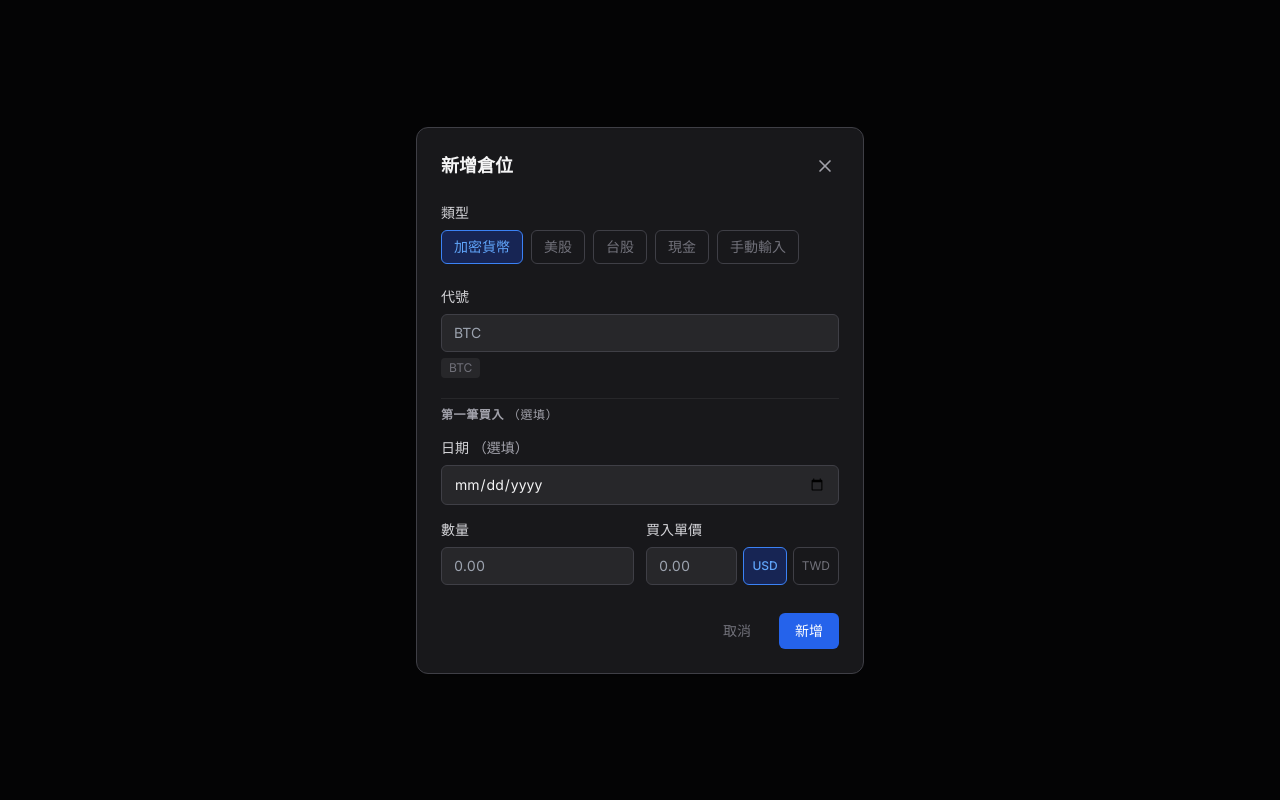
Scenario: new position form › shows 現值 field for cash position (no first lot section)
The image size is (1280, 800).
Click the button "現金" at (682, 246), box [655,230,709,264]
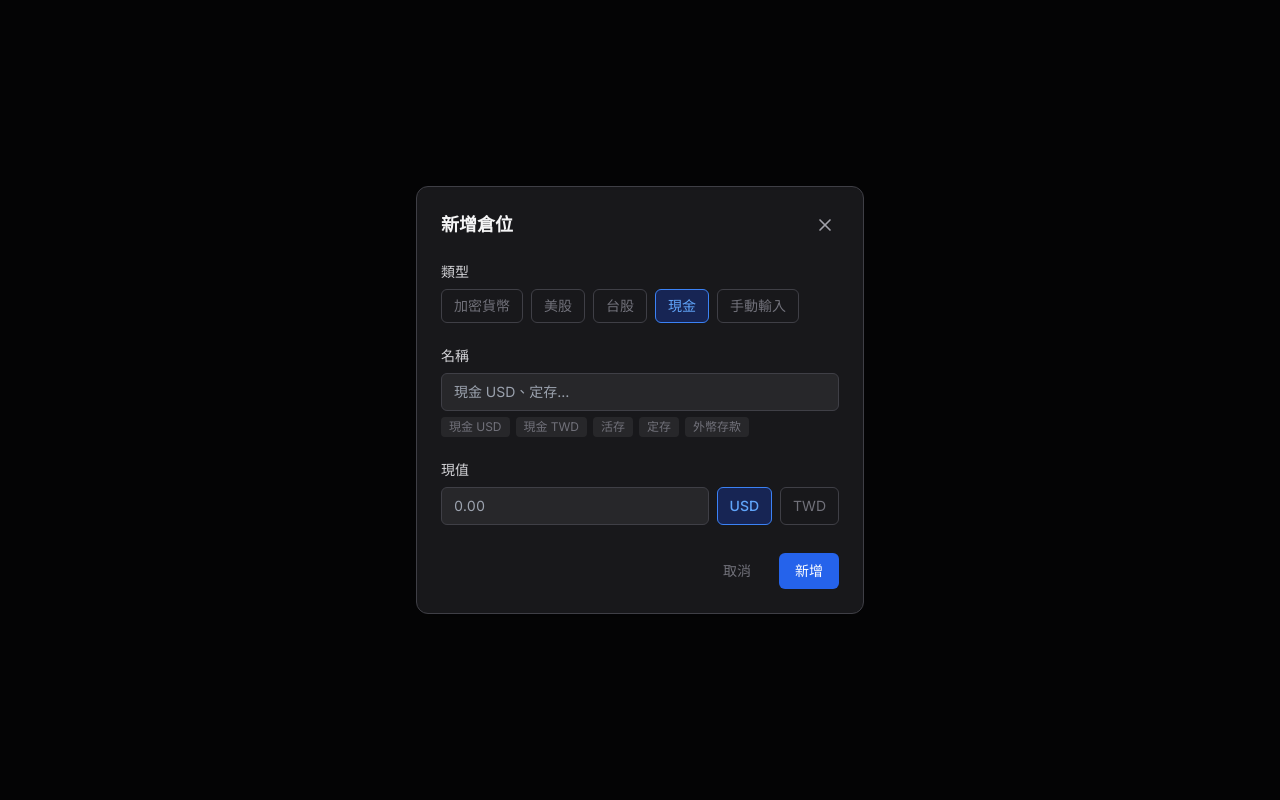
Now the number field labelled "現值" is shown, box [441,487,708,525]
Now the text "第一筆買入" is gone
